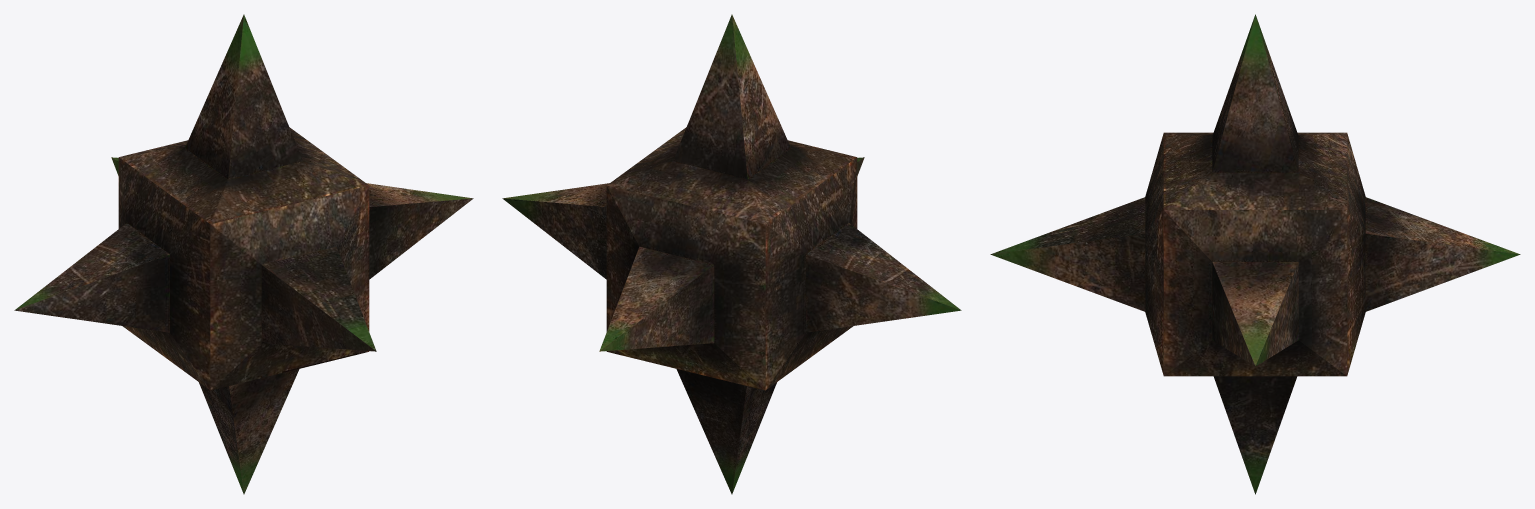
The model's file is Pinchee1.fbx.
3 views of the same model, side by side, from view 1: azimuth 30°, elevation 25°; view 2: azimuth 150°, elevation 25°; view 3: azimuth 270°, elevation 25° (orthographic).
Parts seen in each view (by area): view 1: Cube; view 2: Cube; view 3: Cube.
Boxes of the visible parts, left/top/right/bottom form: Cube: left=14, top=14, right=473, bottom=494; Cube: left=502, top=14, right=961, bottom=494; Cube: left=990, top=14, right=1520, bottom=494.
Bounding box in the file's own units: 701 × 701 × 701.
1 material, 1 textured.
